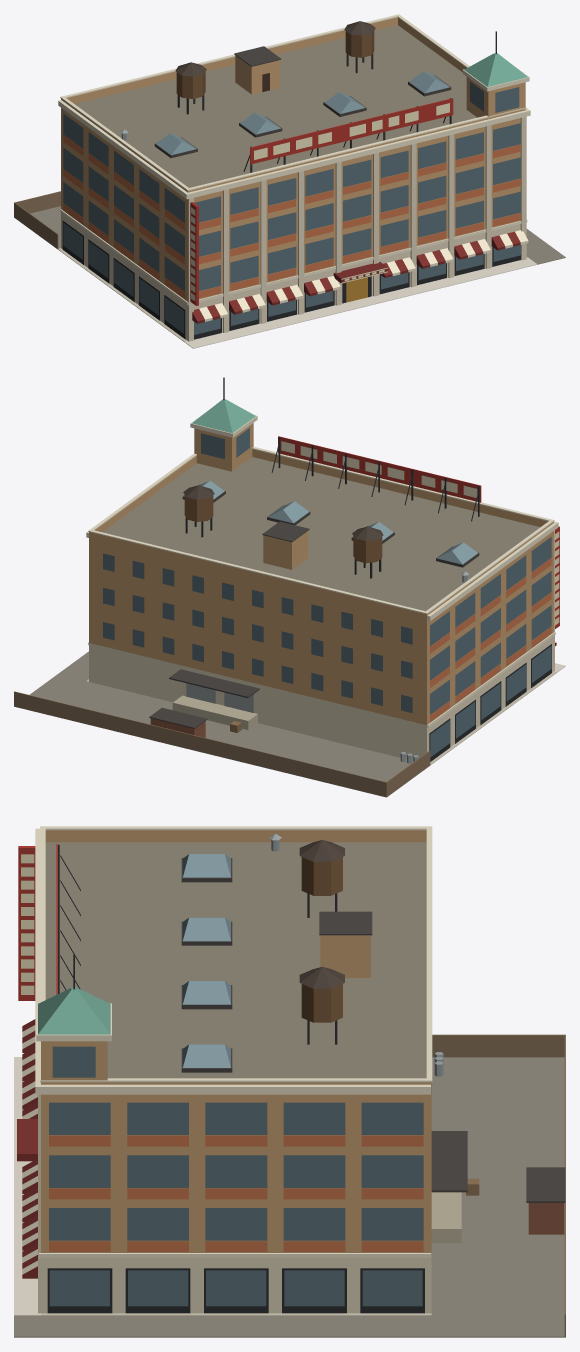
File: mall.glb
3 renders of one model, top to bottom at view 1: azimuth 30°, elevation 25°; view 2: azimuth 150°, elevation 25°; view 3: azimuth 270°, elevation 25°, orthographic. The views are drawn at different scales.
Visible parts, largest first — view 1: mall; view 2: mall; view 3: mall.
Boxes of the visible parts, box(x1,y1,x2,y2) form: mall: box(14, 14, 565, 348); mall: box(14, 377, 565, 797); mall: box(14, 826, 565, 1337).
Bounding box in the file's own units: 48 × 27.61 × 40.
